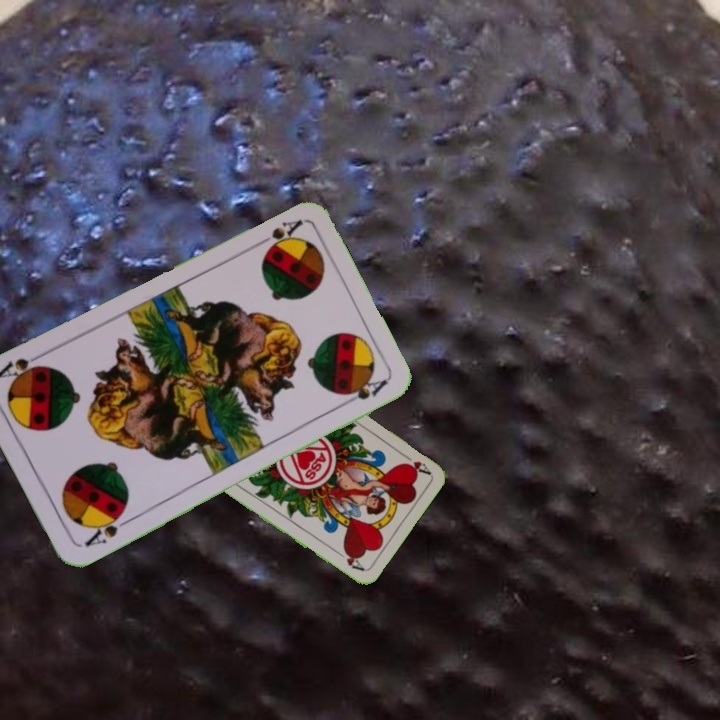HA: (396, 448, 433, 477)
SA: (80, 507, 133, 549), (250, 215, 305, 254)
